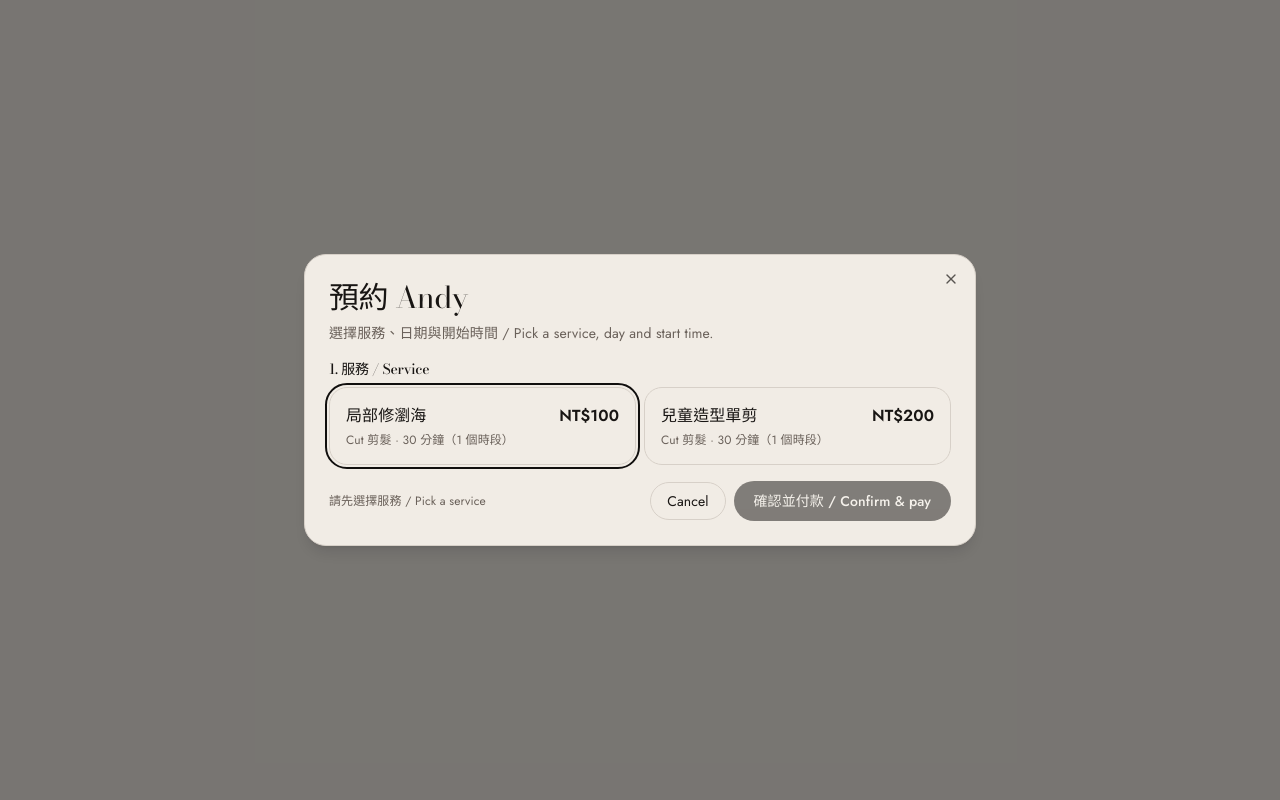
Test case: BookingDialog › explains why Confirm is disabled until a start time is picked
This screenshot has width=1280, height=800.
Expected: the text "請先選擇服務 / Pick a service" is shown, [329, 493, 486, 509]
Click the radio button labelled "兒童造型單剪 NT$200 Cut 剪髮 · 30 分鐘（1 個時段）" at {"x": 709, "y": 416}, box [644, 387, 951, 465]
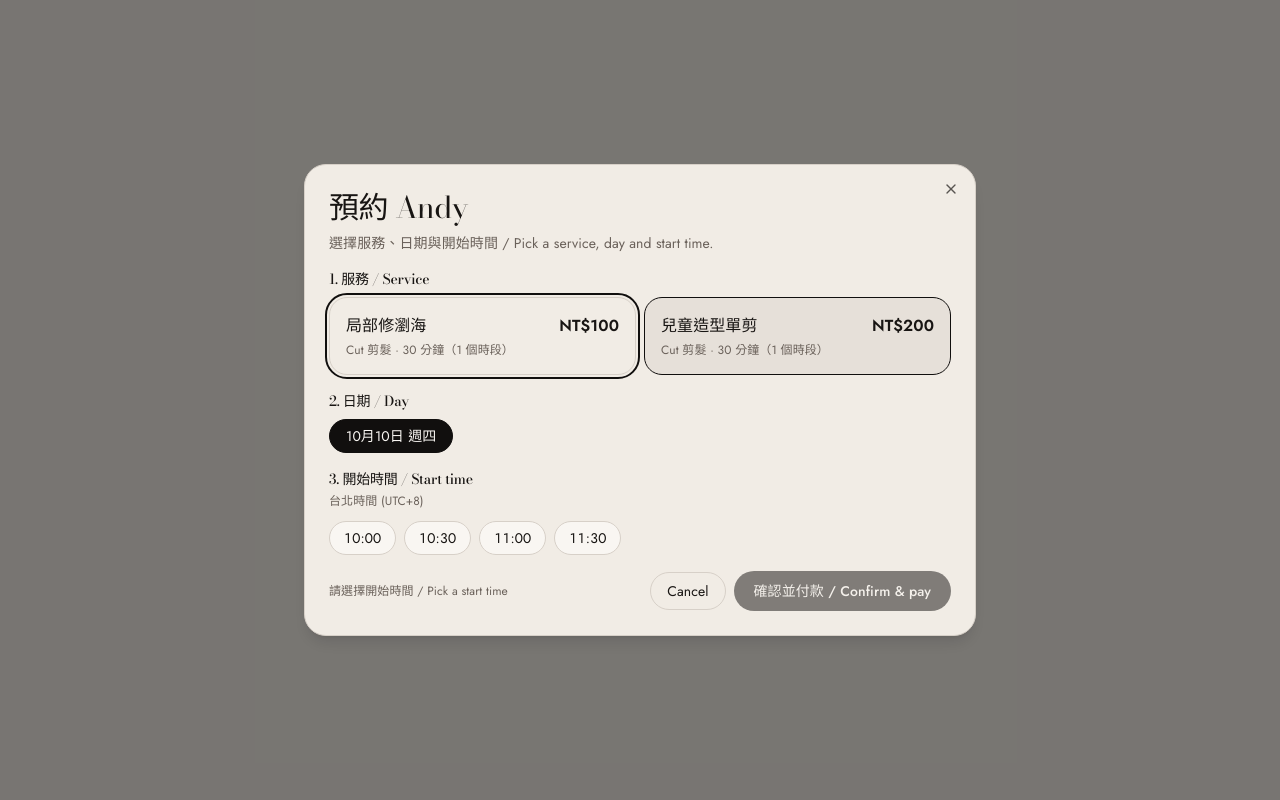
Expected: the button "確認並付款 / Confirm & pay" is disabled, [734, 571, 951, 611]
Expected: the text "請選擇開始時間 / Pick a start time" is shown, [329, 583, 508, 599]
